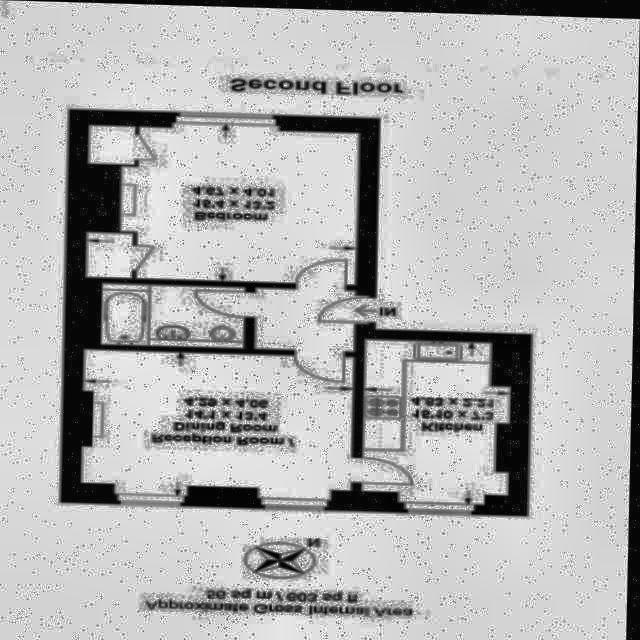room: (85, 345, 368, 506), (87, 119, 361, 283), (364, 337, 514, 508), (102, 283, 259, 347), (256, 280, 378, 351)
